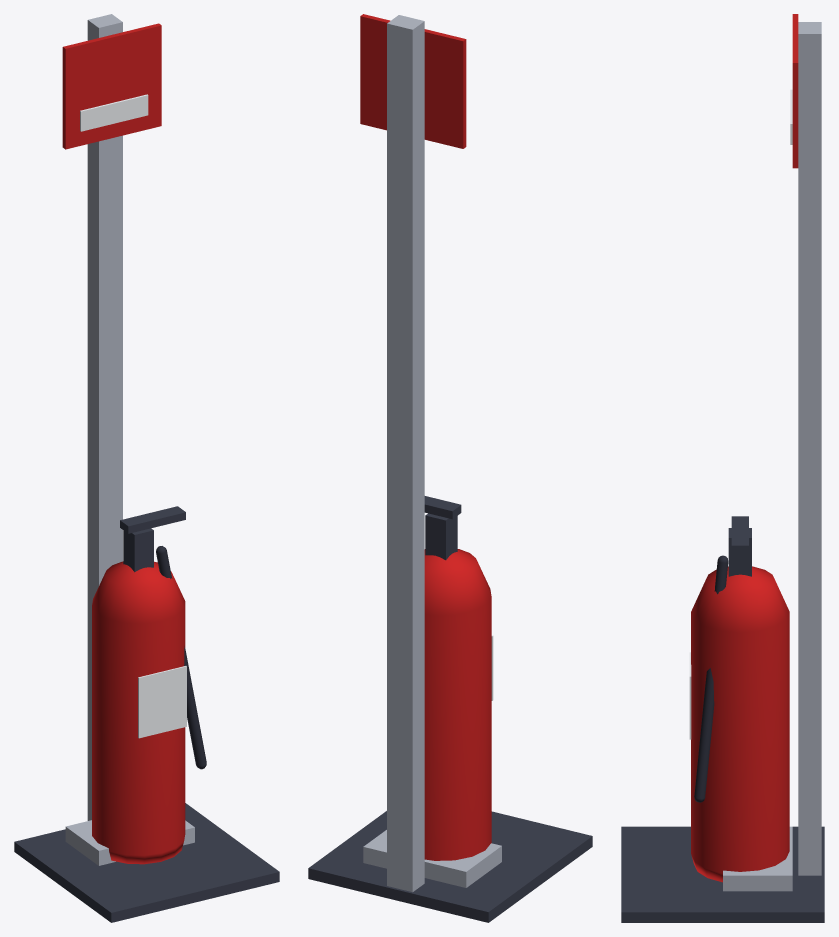
File: ame-008.glb
3 renders of one model, left to right at view 1: azimuth 30°, elevation 25°; view 2: azimuth 150°, elevation 25°; view 3: azimuth 270°, elevation 25°, orthographic. The views are drawn at different scales.
Visible parts, largest first — view 1: fire_red, steel, dark_steel, white, plastic_dark; view 2: steel, fire_red, dark_steel; view 3: fire_red, steel, dark_steel, plastic_dark.
Part boxes in pixels (left/top/right/bottom): fire_red: left=62, top=23, right=185, bottom=864; steel: left=65, top=14, right=194, bottom=865; dark_steel: left=14, top=506, right=279, bottom=922; white: left=80, top=94, right=186, bottom=738; plastic_dark: left=156, top=546, right=206, bottom=769; steel: left=363, top=15, right=501, bottom=892; fire_red: left=360, top=14, right=491, bottom=860; dark_steel: left=308, top=496, right=592, bottom=922; fire_red: left=691, top=14, right=798, bottom=882; steel: left=723, top=22, right=821, bottom=891; dark_steel: left=621, top=516, right=824, bottom=922; plastic_dark: left=694, top=555, right=728, bottom=802.
Size of the model in its own units: 0.35 by 1.62 by 0.35.
